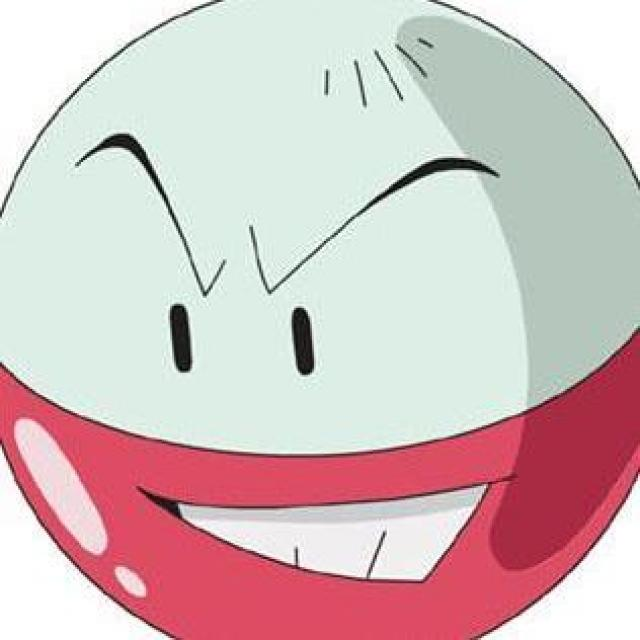Electrode: (5, 0, 640, 633)
